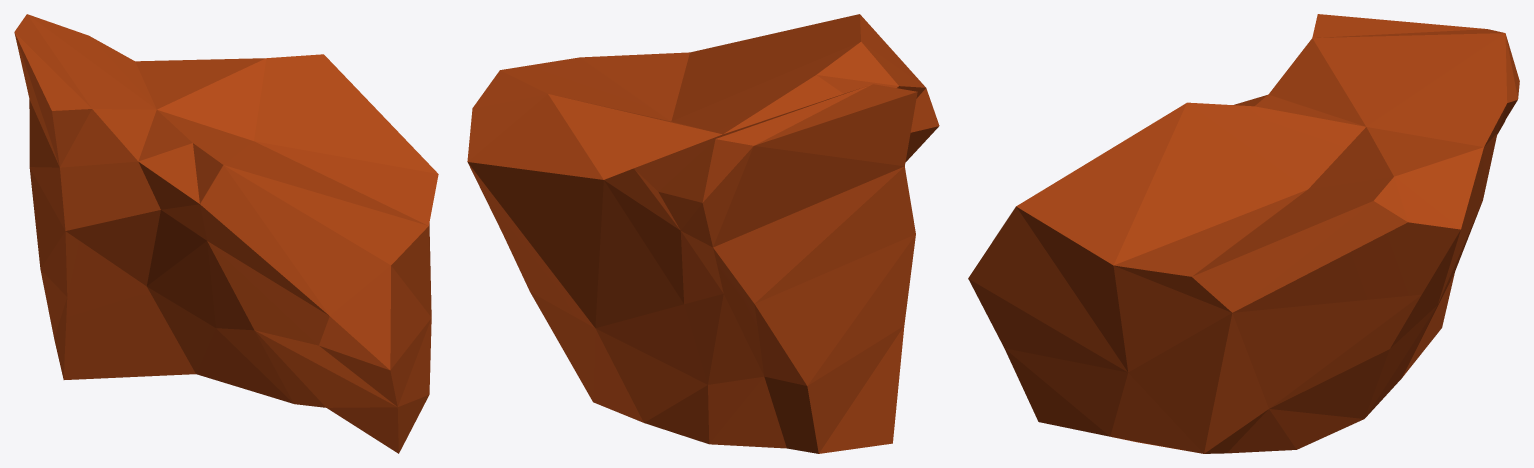
Rendered from stone_mid_4.fbx.
The picture shows the model from 3 angles, left to right: view 1: azimuth 30°, elevation 25°; view 2: azimuth 150°, elevation 25°; view 3: azimuth 270°, elevation 25°; orthographic projection. The views are drawn at different scales.
Parts seen in each view (by area): view 1: Stone_desert_mid_004; view 2: Stone_desert_mid_004; view 3: Stone_desert_mid_004.
Part boxes in pixels (box(x1,y1,x2,y2)): Stone_desert_mid_004: box(14, 14, 438, 453); Stone_desert_mid_004: box(467, 14, 939, 453); Stone_desert_mid_004: box(968, 14, 1519, 453).
Bounding box in the file's own units: 191 × 170 × 265.
1 material, 1 textured.
